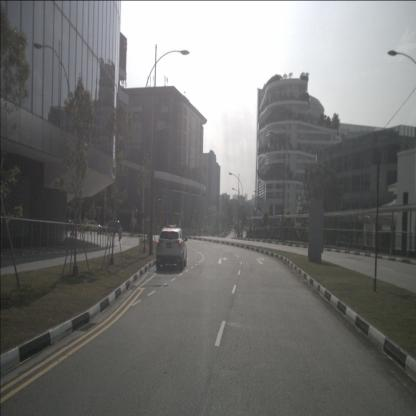vehicle-car: (156, 228, 186, 272), (102, 220, 122, 233), (84, 220, 102, 232)
